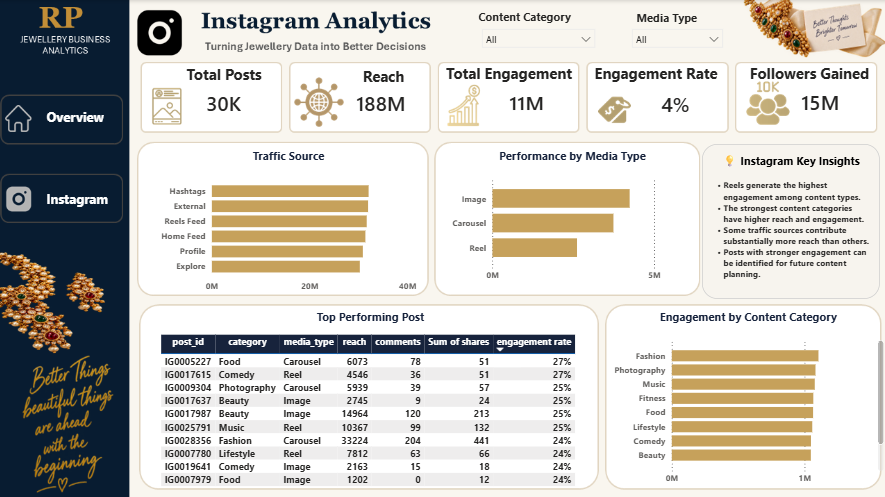

What the dashboard file says about the page in this screenshot:
{"tool":"powerbi","page":{"name":"Instagram Analytics","canvas":[1280,720],"ordinal":1},"visuals":[{"type":"cardVisual","fields":{"Data":["DateTable.Total_Posts"]},"box":[267.8,110.9,122.4,70.6],"z":0},{"type":"cardVisual","fields":{"Data":["DateTable.Total_Reach"]},"box":[483.8,113.8,131,64.8],"z":1000},{"type":"cardVisual","fields":{"Data":["DateTable.Total_engagement"]},"box":[704.2,116.6,118.1,59],"z":2000},{"type":"cardVisual","fields":{"Data":["DateTable.Avg_engagement_rate"]},"box":[923,110.9,112.3,74.9],"z":3000},{"type":"cardVisual","fields":{"Data":["DateTable.Followers_gained"]},"box":[1124.6,108,122.4,74.9],"z":4000},{"type":"clusteredBarChart","title":"Engagement by Content Category","fields":{"Category":["Instagram_Analytics.content_category"],"Y":["DateTable.Total_engagement"]},"box":[878.4,445,398.9,262.1],"z":5000},{"type":"clusteredBarChart","title":"Performance by Media Type","fields":{"Category":["Instagram_Analytics.media_type"],"Y":["DateTable.Total_engagement"]},"box":[645.1,213.1,358.6,201.6],"z":6000},{"type":"clusteredBarChart","title":"Traffic Source","fields":{"Category":["Instagram_Analytics.traffic_source"],"Y":["DateTable.Total_Reach"]},"box":[226.1,213.1,378.7,217.4],"z":7000},{"type":"tableEx","title":"Top Performing Post","fields":{"Values":["Instagram_Analytics.post_id","Instagram_Analytics.content_category","Instagram_Analytics.media_type","Sum(Instagram_Analytics.reach)","Sum(Instagram_Analytics.comments)","Sum(Instagram_Analytics.shares)","Sum(Instagram_Analytics.engagement_rate)"]},"box":[226.8,445.1,614.8,262],"z":8000},{"type":"textbox","box":[250.6,87.8,144,49],"z":9000},{"type":"textbox","box":[489.6,90.7,125.3,49],"z":10000},{"type":"textbox","box":[619.2,86.4,227.5,49],"z":11000},{"type":"textbox","box":[832.3,86.4,224.6,49],"z":12000},{"type":"textbox","box":[1051.2,86.4,229,49],"z":13000},{"type":"textbox","box":[61.9,269.3,115.2,34.6],"z":14000},{"type":"textbox","box":[61.9,151.2,115.2,34.6],"z":15000},{"type":"textbox","box":[1010.9,207.4,256.3,223.2],"z":16000},{"type":"slicer","fields":{"Values":["Instagram_Analytics.media_type"]},"box":[900,31.7,151.2,46.1],"z":17000},{"type":"slicer","fields":{"Values":["Instagram_Analytics.content_category"]},"box":[684,31.7,182.9,54.7],"z":18000},{"type":"textbox","box":[684,8.6,157,36],"z":19000},{"type":"textbox","box":[911.5,10.1,112.3,40.3],"z":20000},{"type":"actionButton","box":[0,142.6,177.1,64.8],"z":21000}]}

Visuals, with their boxes in screenshot pixels (x1, y1, x2, y2), scaled from the page's 1280x720 canvas onto the 885x497 screenshot:
cardVisual - DateTable.Total_Posts: {"left": 185, "top": 77, "right": 270, "bottom": 125}
cardVisual - DateTable.Total_Reach: {"left": 335, "top": 79, "right": 425, "bottom": 123}
cardVisual - DateTable.Total_engagement: {"left": 487, "top": 80, "right": 569, "bottom": 121}
cardVisual - DateTable.Avg_engagement_rate: {"left": 638, "top": 77, "right": 716, "bottom": 128}
cardVisual - DateTable.Followers_gained: {"left": 778, "top": 75, "right": 862, "bottom": 126}
"Engagement by Content Category" clusteredBarChart: {"left": 607, "top": 307, "right": 883, "bottom": 488}
"Performance by Media Type" clusteredBarChart: {"left": 446, "top": 147, "right": 694, "bottom": 286}
"Traffic Source" clusteredBarChart: {"left": 156, "top": 147, "right": 418, "bottom": 297}
"Top Performing Post" tableEx: {"left": 157, "top": 307, "right": 582, "bottom": 488}
textbox: {"left": 173, "top": 61, "right": 273, "bottom": 94}
textbox: {"left": 339, "top": 63, "right": 425, "bottom": 96}
textbox: {"left": 428, "top": 60, "right": 585, "bottom": 93}
textbox: {"left": 575, "top": 60, "right": 731, "bottom": 93}
textbox: {"left": 727, "top": 60, "right": 884, "bottom": 93}
textbox: {"left": 43, "top": 186, "right": 122, "bottom": 210}
textbox: {"left": 43, "top": 104, "right": 122, "bottom": 128}
textbox: {"left": 699, "top": 143, "right": 876, "bottom": 297}
slicer - Instagram_Analytics.media_type: {"left": 622, "top": 22, "right": 727, "bottom": 54}
slicer - Instagram_Analytics.content_category: {"left": 473, "top": 22, "right": 599, "bottom": 60}
textbox: {"left": 473, "top": 6, "right": 581, "bottom": 31}
textbox: {"left": 630, "top": 7, "right": 708, "bottom": 35}
actionButton: {"left": 0, "top": 98, "right": 122, "bottom": 143}
